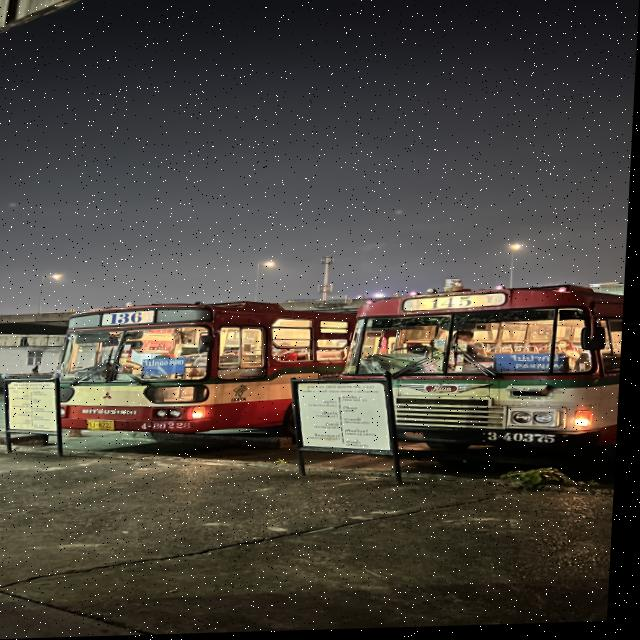BMTA-bus: (345, 286, 627, 471), (60, 300, 387, 456)
Bus Line Number: (106, 309, 156, 328), (433, 298, 479, 313)
Bus Side Number: (491, 433, 562, 451), (142, 421, 200, 432)
Destination Sign: (498, 355, 571, 376), (145, 358, 191, 376)
